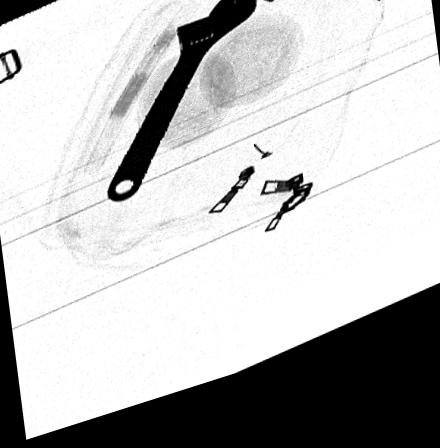Wrench: (104, 2, 258, 211)
